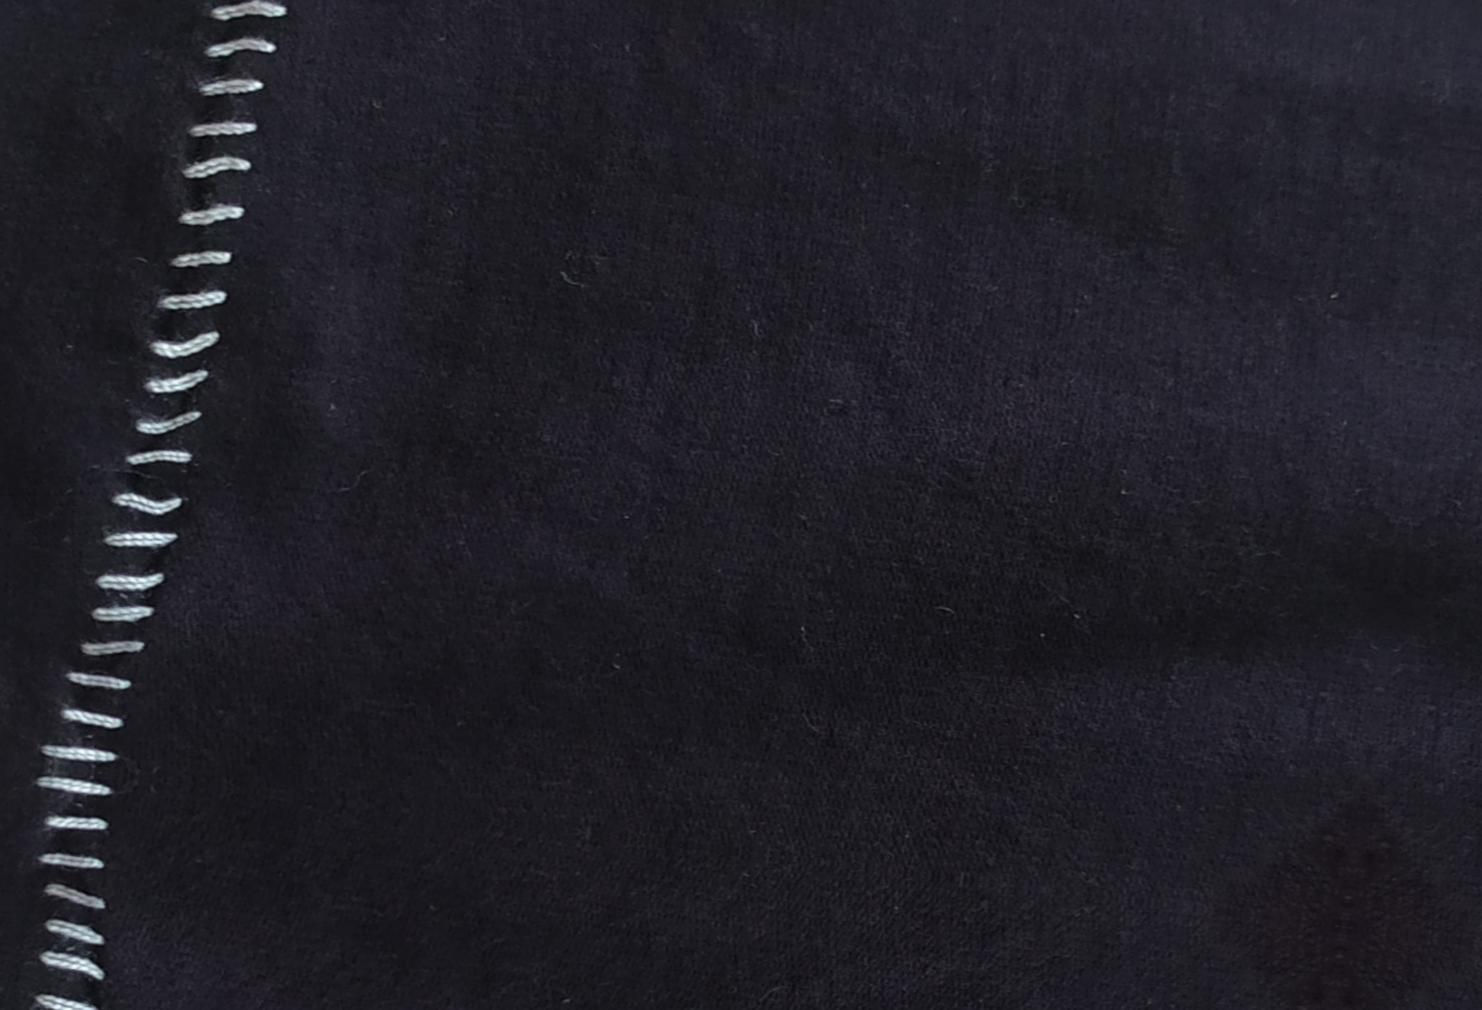slub: (11, 5, 291, 1010)
